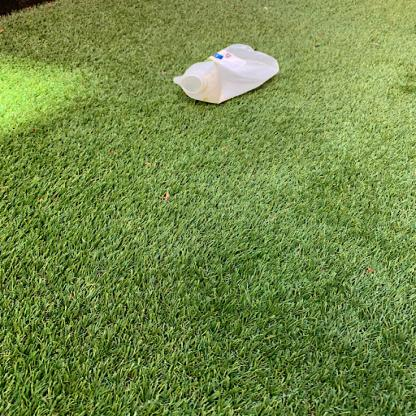trash: (176, 44, 284, 108)
